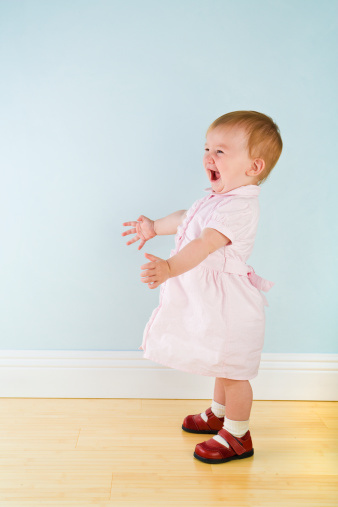em pe: (117, 84, 276, 466)
